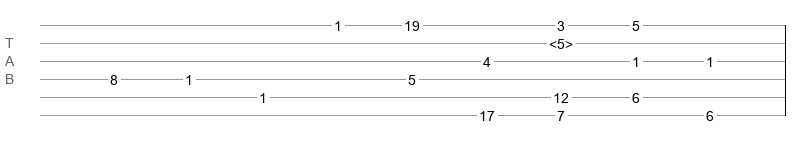1: (185, 72, 193, 82), (259, 90, 267, 100), (334, 18, 342, 28), (632, 54, 640, 64), (706, 54, 714, 64)
12: (553, 90, 569, 100)
17: (479, 108, 495, 118)
19: (404, 18, 420, 28)
3: (557, 18, 565, 28)
4: (483, 54, 491, 64)
5: (408, 72, 416, 82), (632, 18, 640, 28)
6: (632, 90, 640, 100), (706, 108, 714, 118)
7: (557, 108, 565, 118)
8: (110, 72, 118, 82)
harmonic: (549, 36, 573, 46)
